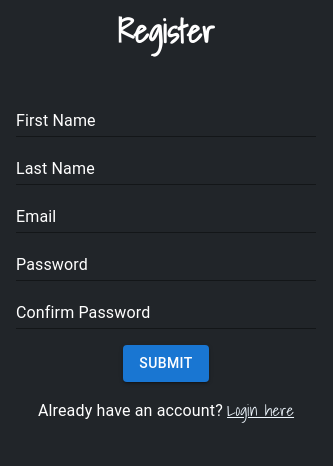
register › register function › with failure › should return error
Type "Test2" into the field labelled "First Name" at (166,121), box [16,105,316,137]
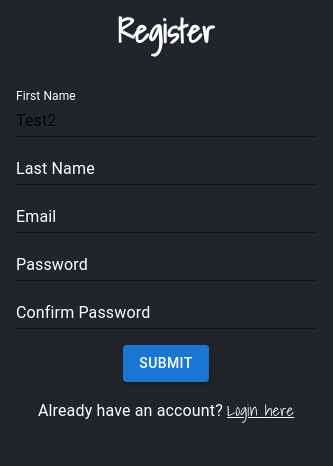
Type "Uh" into the field labelled "Last Name" at (166,169), box [16,153,316,185]
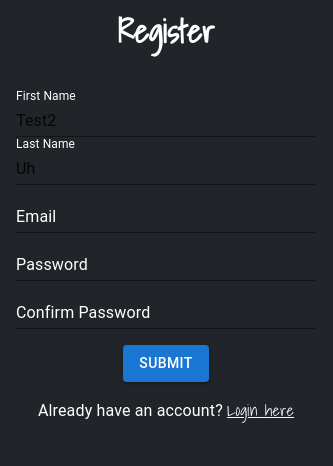
Type "test2@example.com" into the field labelled "Email" at (166,217), box [16,201,316,233]
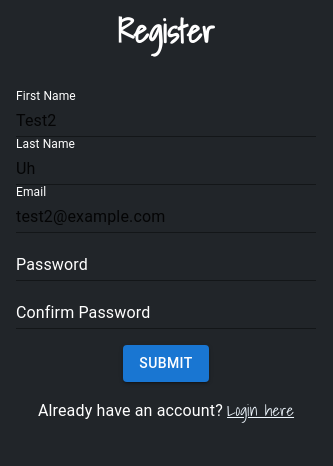
Type "testpassword" into the password field labelled "Password" at (166,265), box [16,249,316,281]
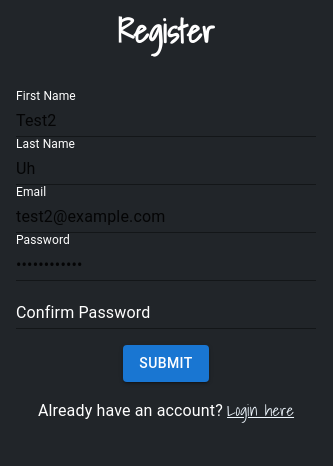
Type "testpassword" into the password field labelled "Confirm Password" at (166,313), box [16,297,316,329]
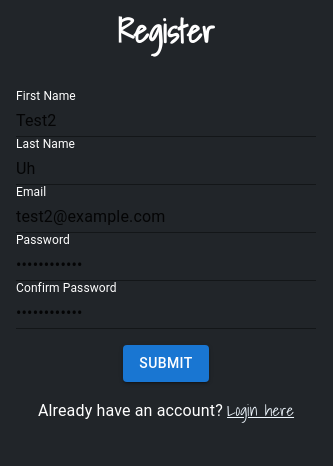
Click the button at (166,363), box [123,345,209,382]
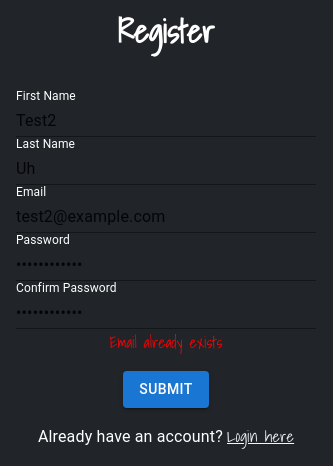
Expected: the text "Email already exists" is shown, [110,329,222,355]
